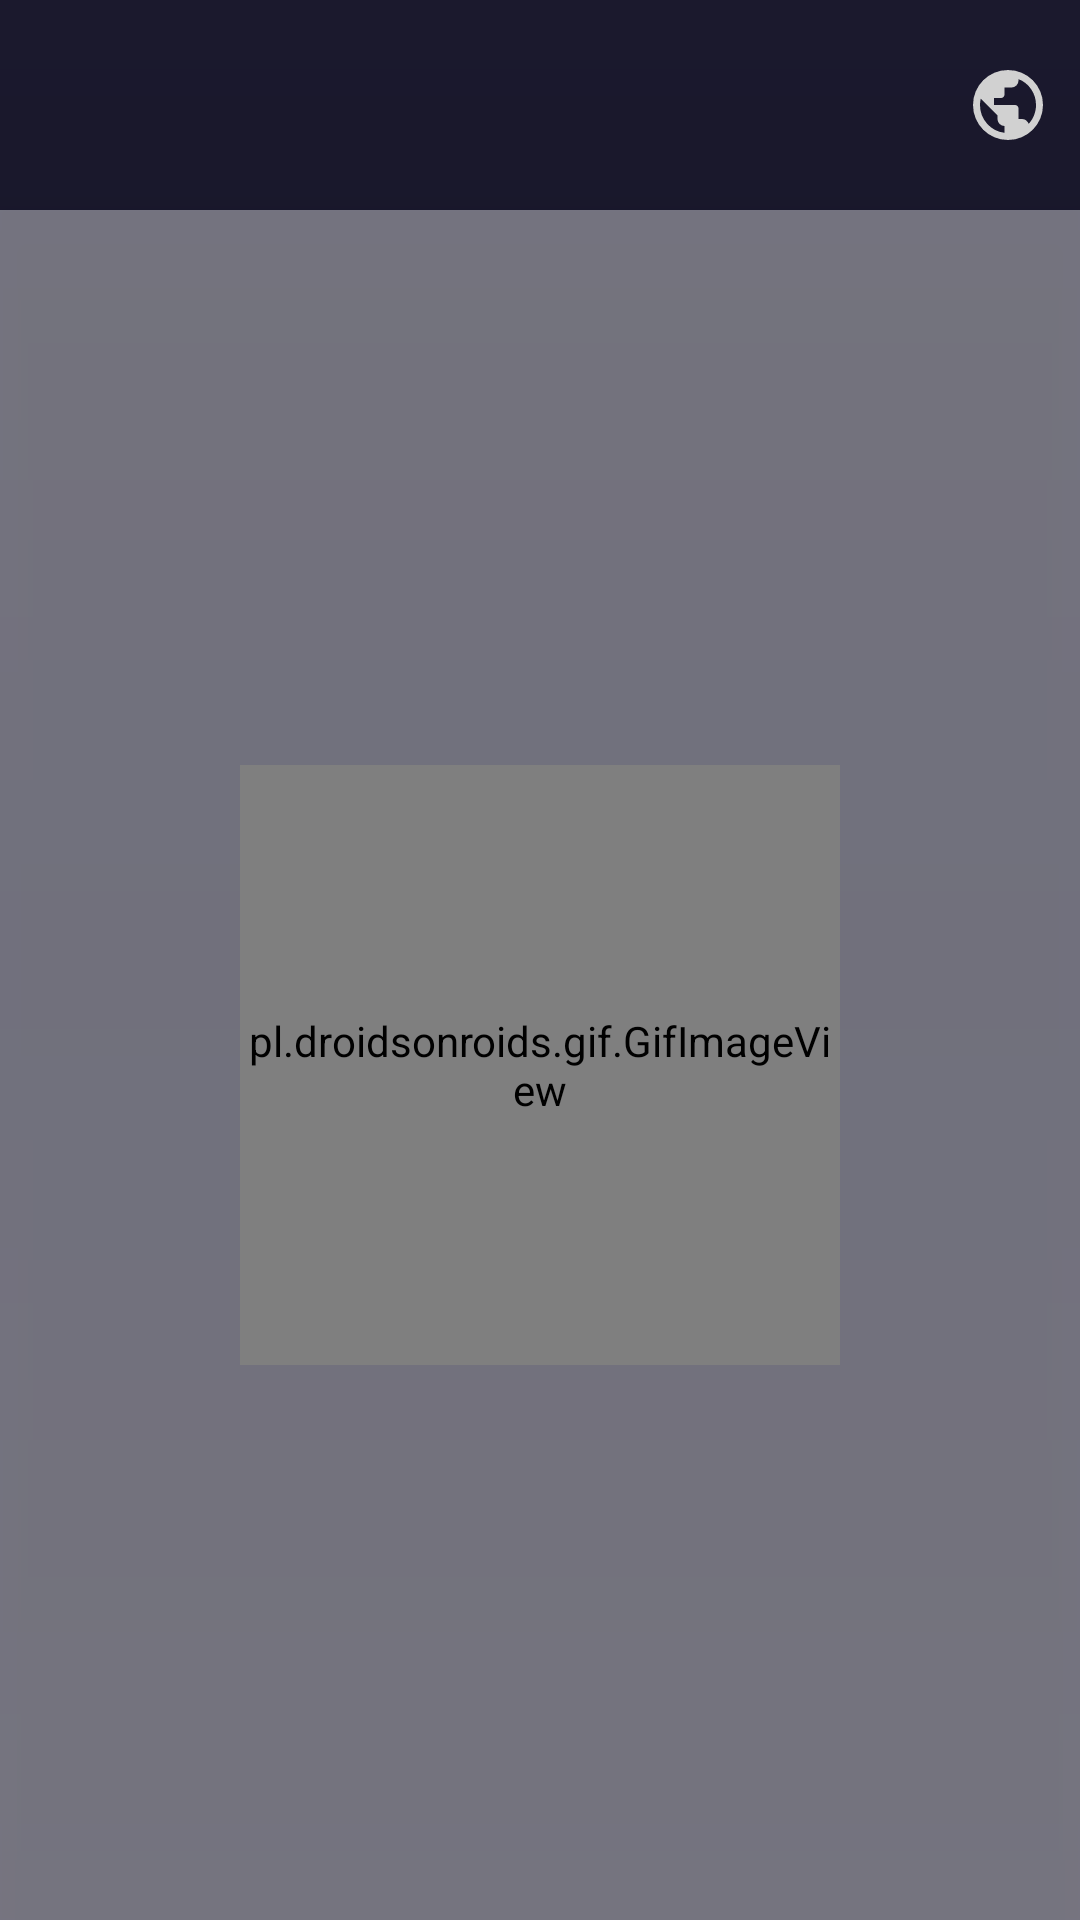

Icons on this 1080 x 1920 Android screen, each with the point to tap as (x=x, y=y):
Story Location Finder: (x=1008, y=105)
